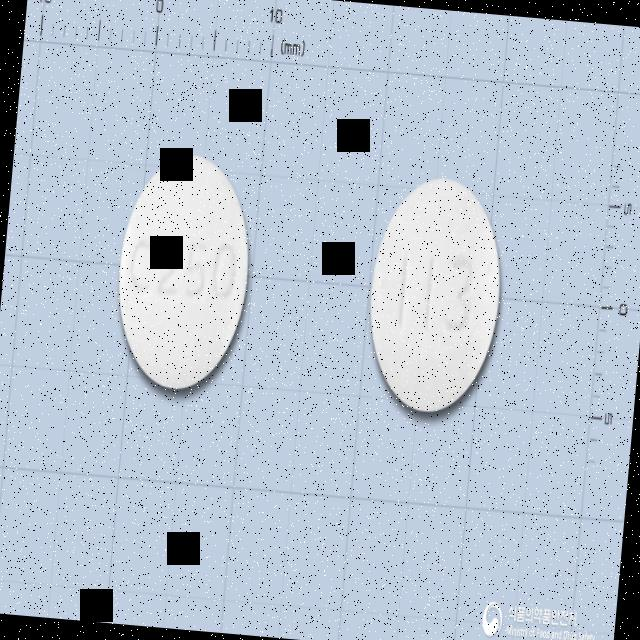Ciprofloxacin Hcl Tab- Ilyang: (355, 162, 517, 426), (109, 146, 264, 404)
